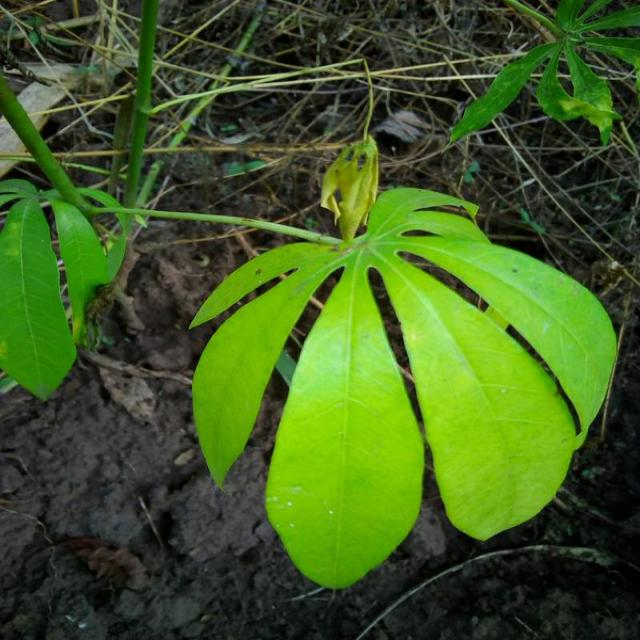cassava leaf: (188, 165, 617, 589), (263, 246, 425, 590), (0, 195, 78, 401)
